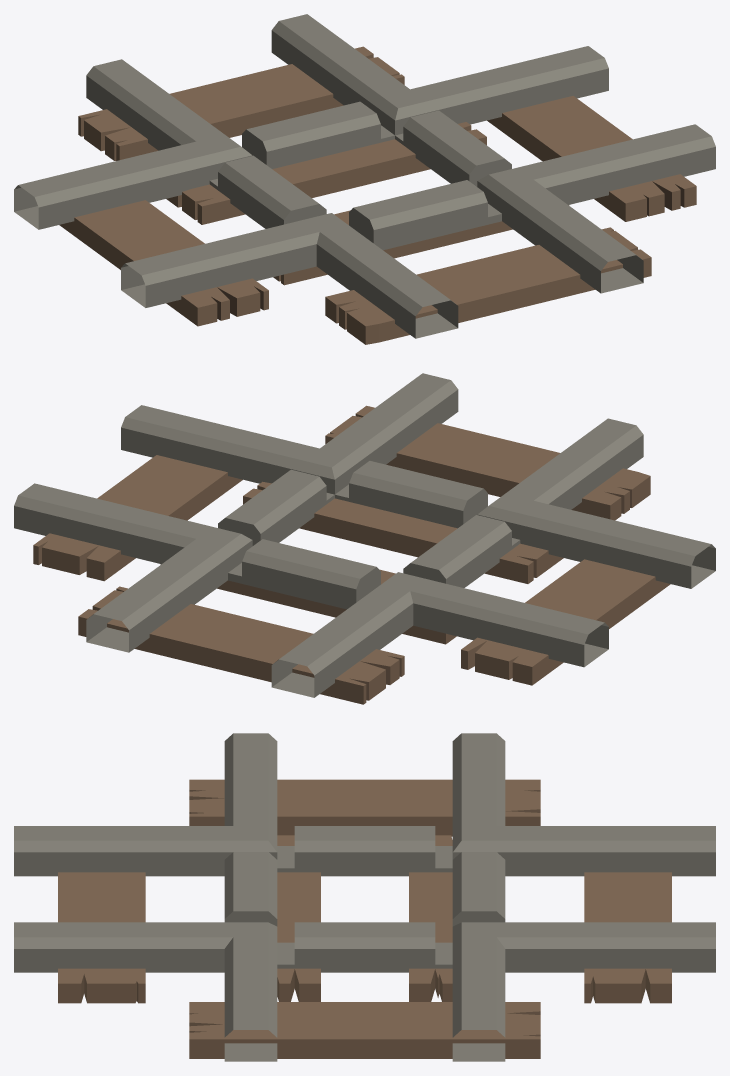
File: Cave_Prop_Railway_Intersection.obj
The picture shows the model from 3 angles, top to bottom: view 1: azimuth 30°, elevation 25°; view 2: azimuth 150°, elevation 25°; view 3: azimuth 270°, elevation 25°; orthographic projection. The views are drawn at different scales.
Visible parts, largest first — view 1: object8, object7, object1, object6, object3, object4, object2; view 2: object8, object1, object7, object6, object3, object2, object4; view 3: object8, object3, object6, object7, object1, object2, object4.
Part boxes in pixels (x1=…): object8: x1=14, y1=14, x2=715, y2=338; object7: x1=325, y1=227, x2=651, y2=344; object1: x1=78, y1=46, x2=404, y2=160; object6: x1=59, y1=200, x2=268, y2=326; object3: x1=487, y1=96, x2=696, y2=221; object4: x1=166, y1=122, x2=486, y2=224; object2: x1=273, y1=205, x2=569, y2=285; object8: x1=14, y1=373, x2=715, y2=697; object1: x1=78, y1=586, x2=404, y2=704; object7: x1=325, y1=405, x2=650, y2=520; object6: x1=461, y1=559, x2=670, y2=685; object3: x1=33, y1=455, x2=242, y2=581; object2: x1=243, y1=481, x2=563, y2=583; object4: x1=160, y1=564, x2=456, y2=644; object8: x1=14, y1=733, x2=715, y2=1061; object3: x1=189, y1=1002, x2=540, y2=1058; object6: x1=189, y1=779, x2=540, y2=836; object7: x1=58, y1=872, x2=145, y2=1003; object1: x1=584, y1=872, x2=671, y2=1003; object2: x1=277, y1=835, x2=320, y2=1001; object4: x1=409, y1=835, x2=452, y2=1001.
Bounding box in the file's own units: 2 × 0.15 × 2.
